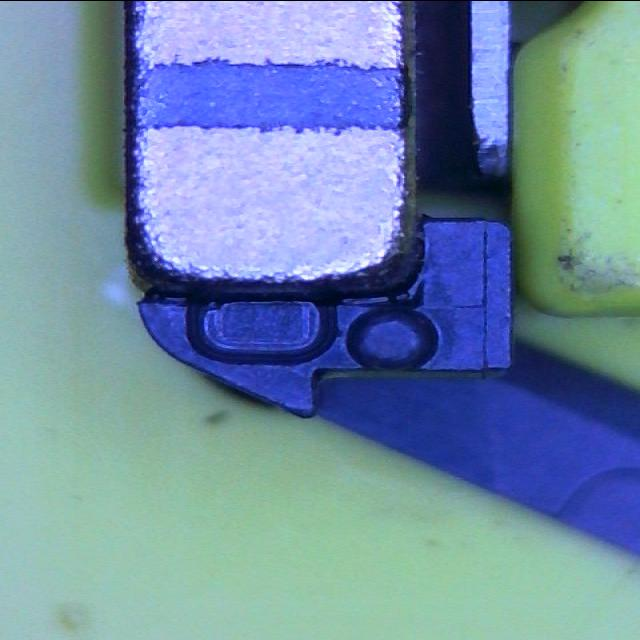lacking: (183, 292, 341, 366)
